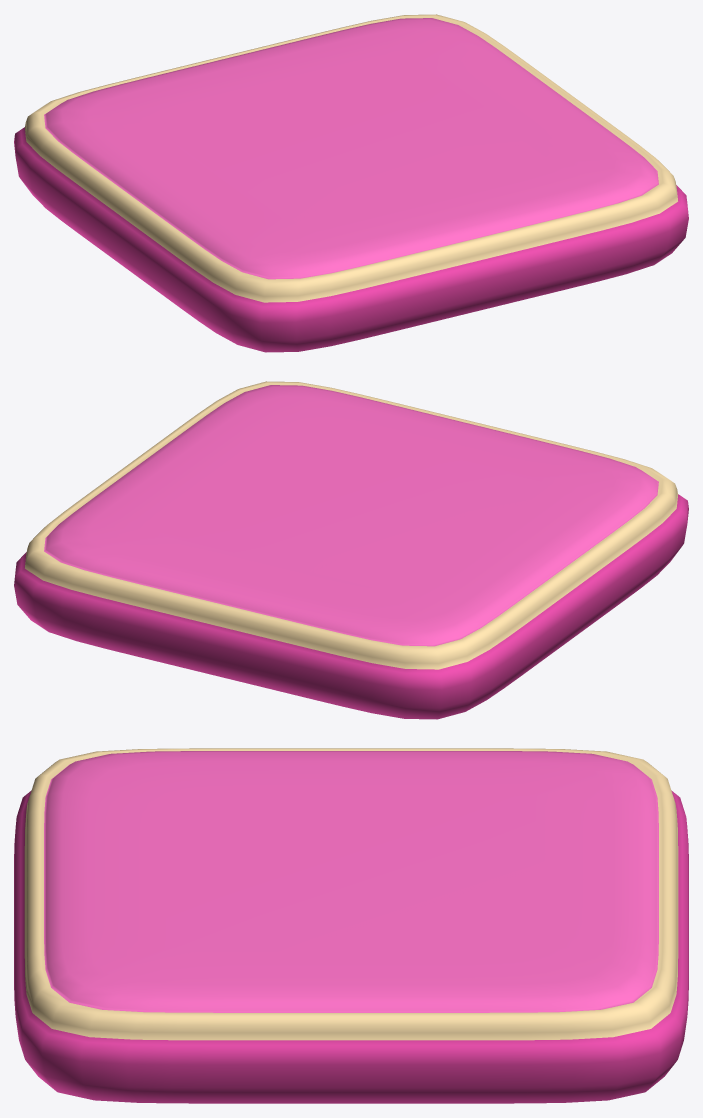
Rendered from answer-cushion.glb.
3 renders of one model, top to bottom at view 1: azimuth 30°, elevation 25°; view 2: azimuth 150°, elevation 25°; view 3: azimuth 270°, elevation 25°, orthographic. The views are drawn at different scales.
Parts seen in each view (by area): view 1: Air cushion; view 2: Air cushion; view 3: Air cushion.
Part boxes in pixels (x1=…): Air cushion: x1=14, y1=14, x2=688, y2=352; Air cushion: x1=14, y1=381, x2=688, y2=719; Air cushion: x1=14, y1=748, x2=688, y2=1103.
Size of the model in its own units: 2 by 0.333 by 2.
